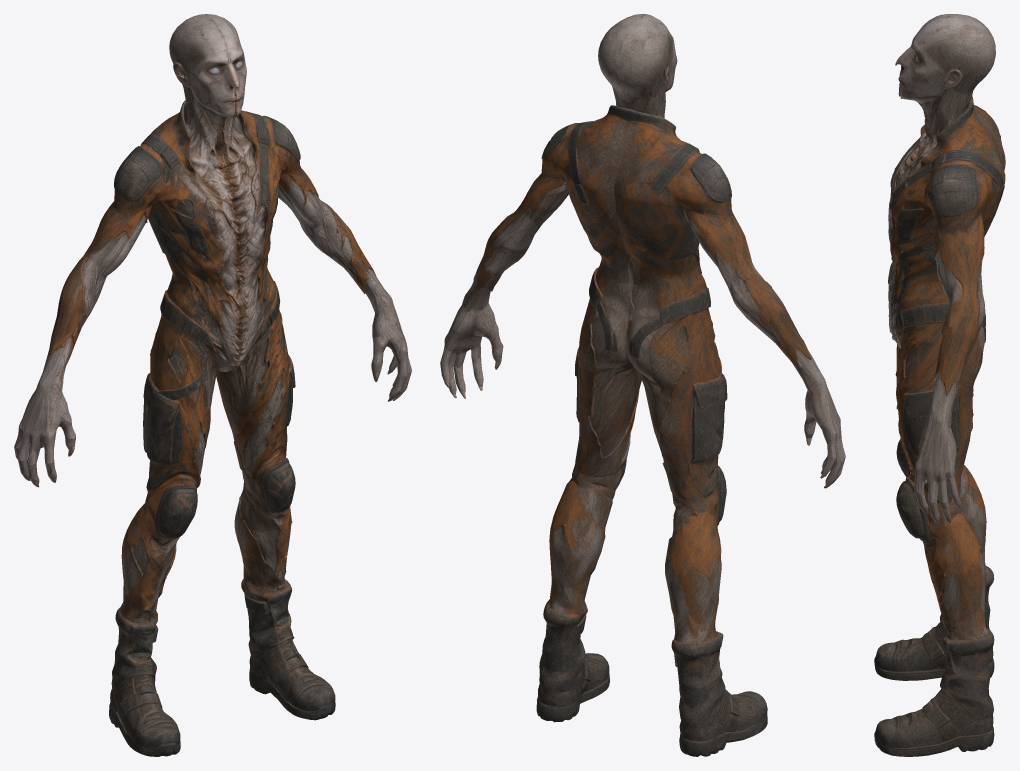
File: sleeper_mixamo.fbx
3 views of the same model, side by side, from view 1: azimuth 30°, elevation 25°; view 2: azimuth 150°, elevation 25°; view 3: azimuth 270°, elevation 25° (orthographic).
Visible parts, largest first — view 1: sleeper; view 2: sleeper; view 3: sleeper.
Part boxes in pixels (x1,y1,x2,y2): sleeper: (14,14,411,756); sleeper: (440,14,845,756); sleeper: (874,14,1005,756).
Bounding box in the file's own units: 1.12 × 1.9 × 0.3268.
Materials: 1 (1 with a texture image).
